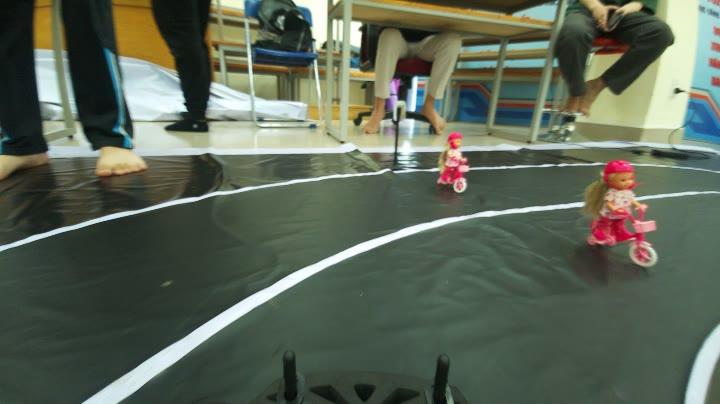pedestrian: (579, 150, 666, 272), (427, 128, 479, 194)
